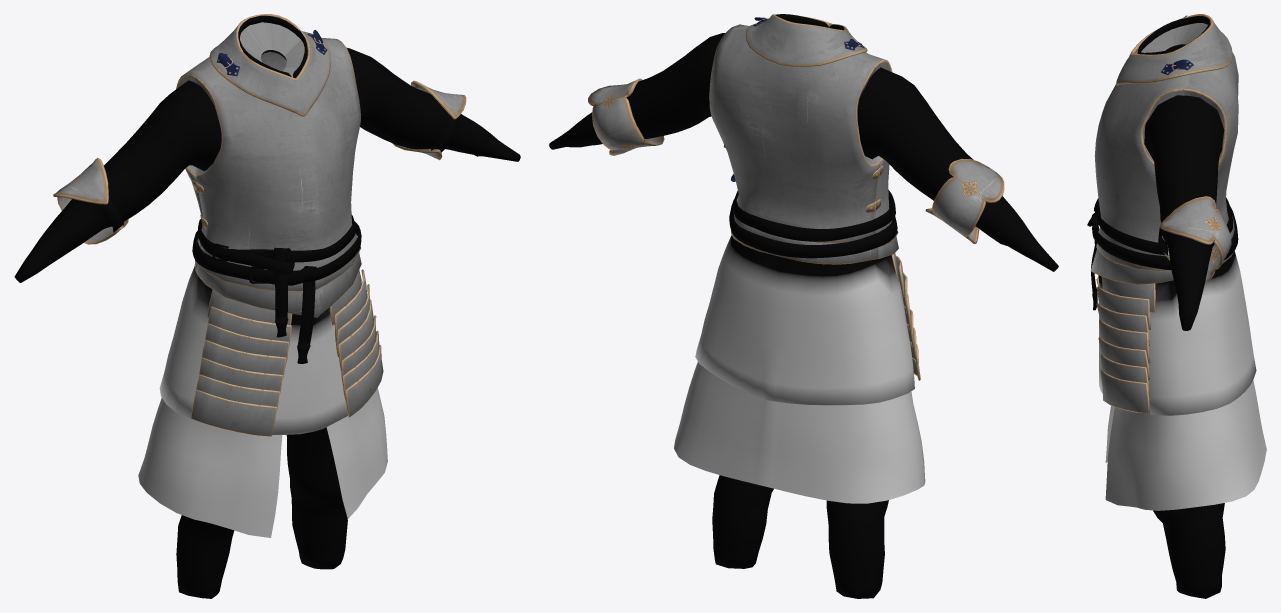
Rendered from swan_knight_armor_1a_t3_slim.fbx.
3 views of the same model, side by side, from view 1: azimuth 30°, elevation 25°; view 2: azimuth 150°, elevation 25°; view 3: azimuth 270°, elevation 25° (orthographic). The views are drawn at different scales.
Parts seen in each view (by area): view 1: swan_knight_armor_1a_t3_slim.0, swan_knight_armor_1a_t3_slim.1; view 2: swan_knight_armor_1a_t3_slim.0, swan_knight_armor_1a_t3_slim.1; view 3: swan_knight_armor_1a_t3_slim.0, swan_knight_armor_1a_t3_slim.1.
Part boxes in pixels (bbox=[...]): swan_knight_armor_1a_t3_slim.0: bbox=[14, 15, 520, 598]; swan_knight_armor_1a_t3_slim.1: bbox=[53, 14, 466, 436]; swan_knight_armor_1a_t3_slim.0: bbox=[549, 14, 1058, 598]; swan_knight_armor_1a_t3_slim.1: bbox=[588, 14, 1004, 380]; swan_knight_armor_1a_t3_slim.0: bbox=[1087, 16, 1266, 598]; swan_knight_armor_1a_t3_slim.1: bbox=[1090, 14, 1238, 413].
Bounding box in the file's own units: 1.3 × 0.4125 × 1.37.
